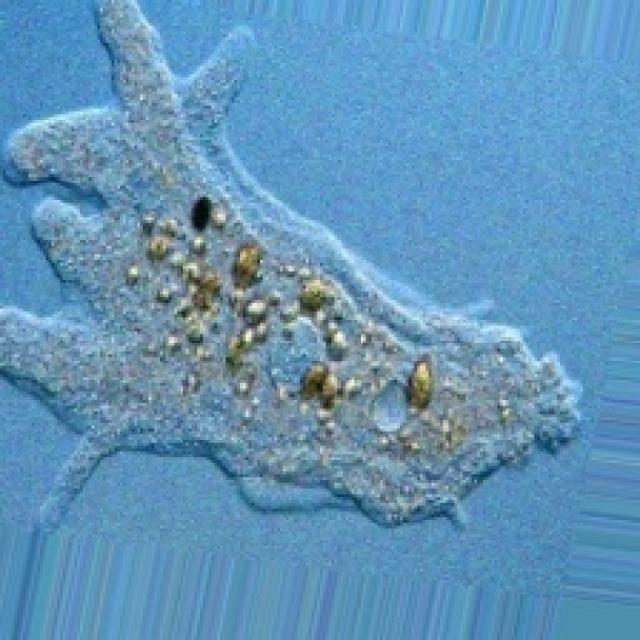Amoeba: (0, 0, 585, 534)
